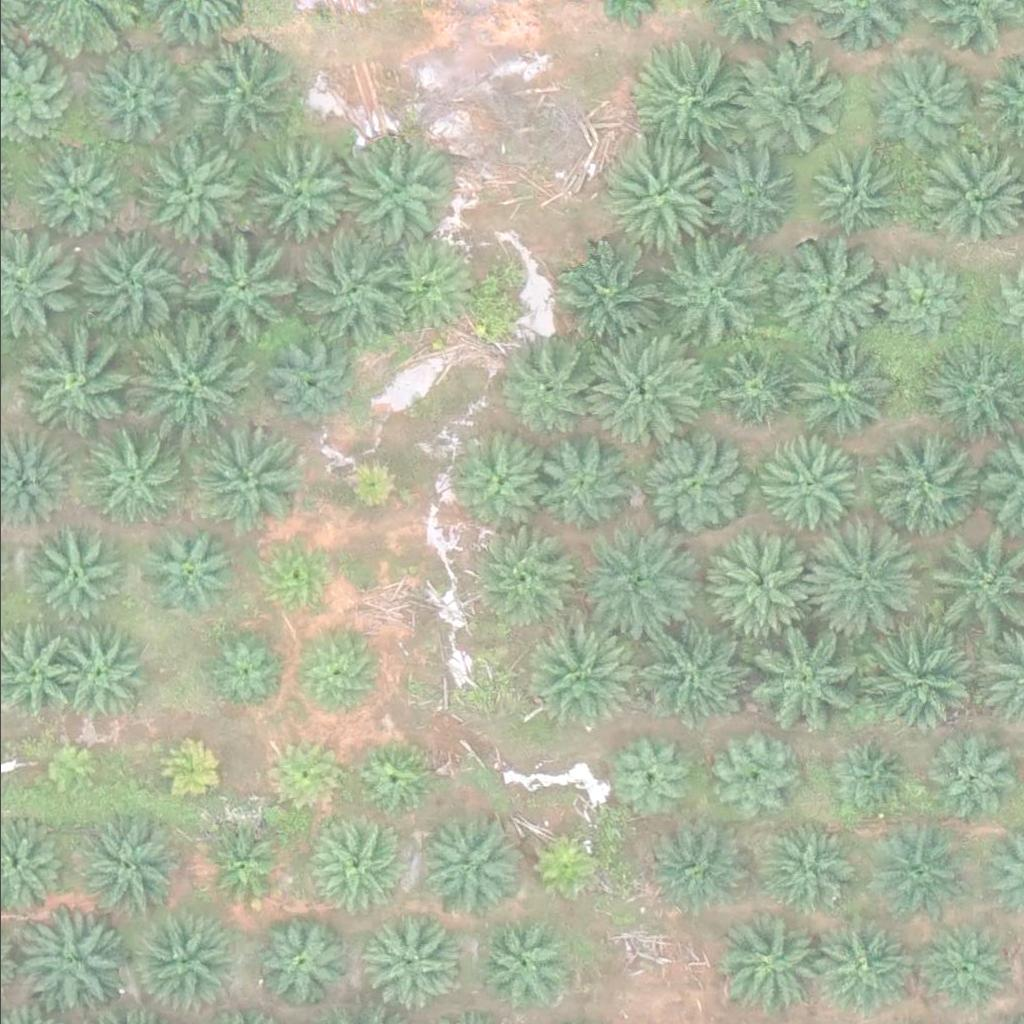Kelapa_Sawit: (73, 810, 187, 923), (797, 528, 911, 641), (8, 908, 121, 1021), (73, 229, 186, 342), (857, 622, 970, 735), (741, 615, 854, 728), (667, 230, 780, 343), (550, 243, 663, 356), (603, 137, 716, 250), (862, 42, 975, 155), (743, 42, 856, 155), (629, 34, 742, 147), (126, 326, 239, 439), (177, 232, 290, 345), (334, 137, 447, 250), (625, 614, 739, 726), (521, 618, 635, 730), (464, 520, 578, 632), (768, 233, 882, 345), (17, 322, 130, 434), (576, 528, 689, 640), (703, 528, 816, 640), (867, 420, 980, 532), (779, 335, 892, 447), (591, 335, 704, 447), (190, 423, 303, 535), (294, 238, 407, 350), (144, 140, 257, 252), (181, 34, 294, 146), (133, 909, 234, 1009), (49, 623, 150, 723), (136, 517, 237, 617), (20, 524, 121, 624), (80, 430, 181, 530), (807, 918, 908, 1018), (715, 914, 816, 1014), (475, 915, 576, 1015), (365, 915, 466, 1015), (242, 908, 343, 1008), (759, 819, 860, 919), (650, 820, 751, 920), (413, 813, 514, 913), (305, 812, 406, 912), (753, 434, 854, 534), (641, 434, 742, 534), (532, 436, 633, 536), (493, 331, 594, 431), (696, 144, 797, 244), (809, 148, 910, 248), (376, 237, 477, 337), (242, 145, 343, 245), (857, 821, 957, 921), (447, 436, 547, 536), (522, 823, 610, 911), (294, 631, 382, 719), (202, 631, 290, 719), (262, 729, 350, 817), (351, 737, 439, 825), (924, 924, 1012, 1012), (606, 732, 694, 820), (714, 736, 802, 824), (708, 339, 796, 427), (878, 256, 966, 344), (269, 344, 357, 432), (28, 152, 116, 239), (83, 54, 171, 141), (252, 532, 340, 619), (202, 822, 290, 909), (822, 734, 910, 821), (927, 734, 1015, 821), (152, 734, 228, 809), (336, 449, 399, 512), (36, 739, 99, 801)
